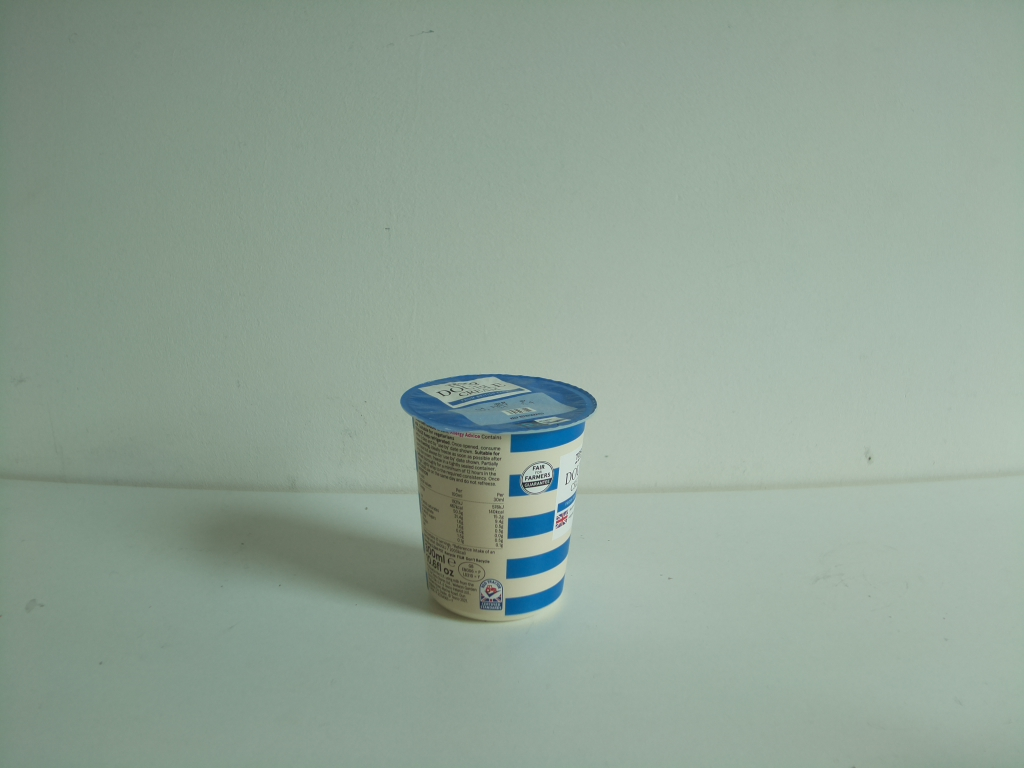cream: (401, 375, 594, 621)
